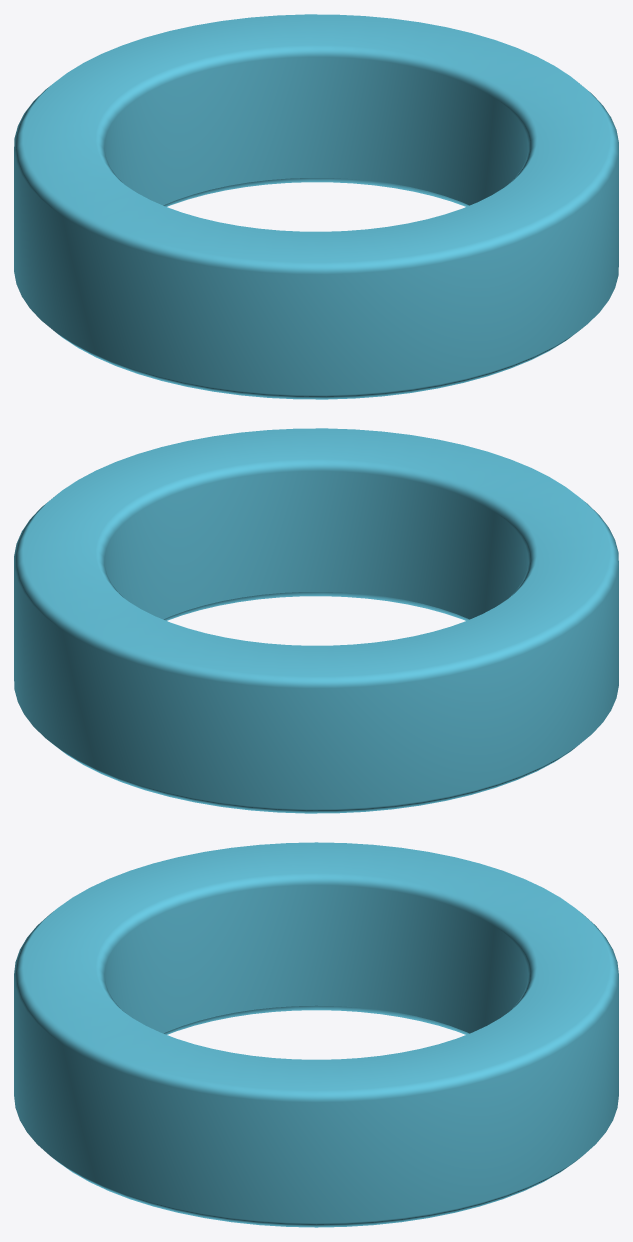
3 renders of one model, top to bottom at view 1: azimuth 30°, elevation 25°; view 2: azimuth 150°, elevation 25°; view 3: azimuth 270°, elevation 25°, orthographic.
Parts seen in each view (by area): view 1: seal_body; view 2: seal_body; view 3: seal_body.
Boxes of the visible parts, <box> form: seal_body: <box>14,14,618,399</box>; seal_body: <box>14,428,618,813</box>; seal_body: <box>14,842,618,1227</box>.
Size of the model in its own units: 0.0635 by 0.0159 by 0.0635.
